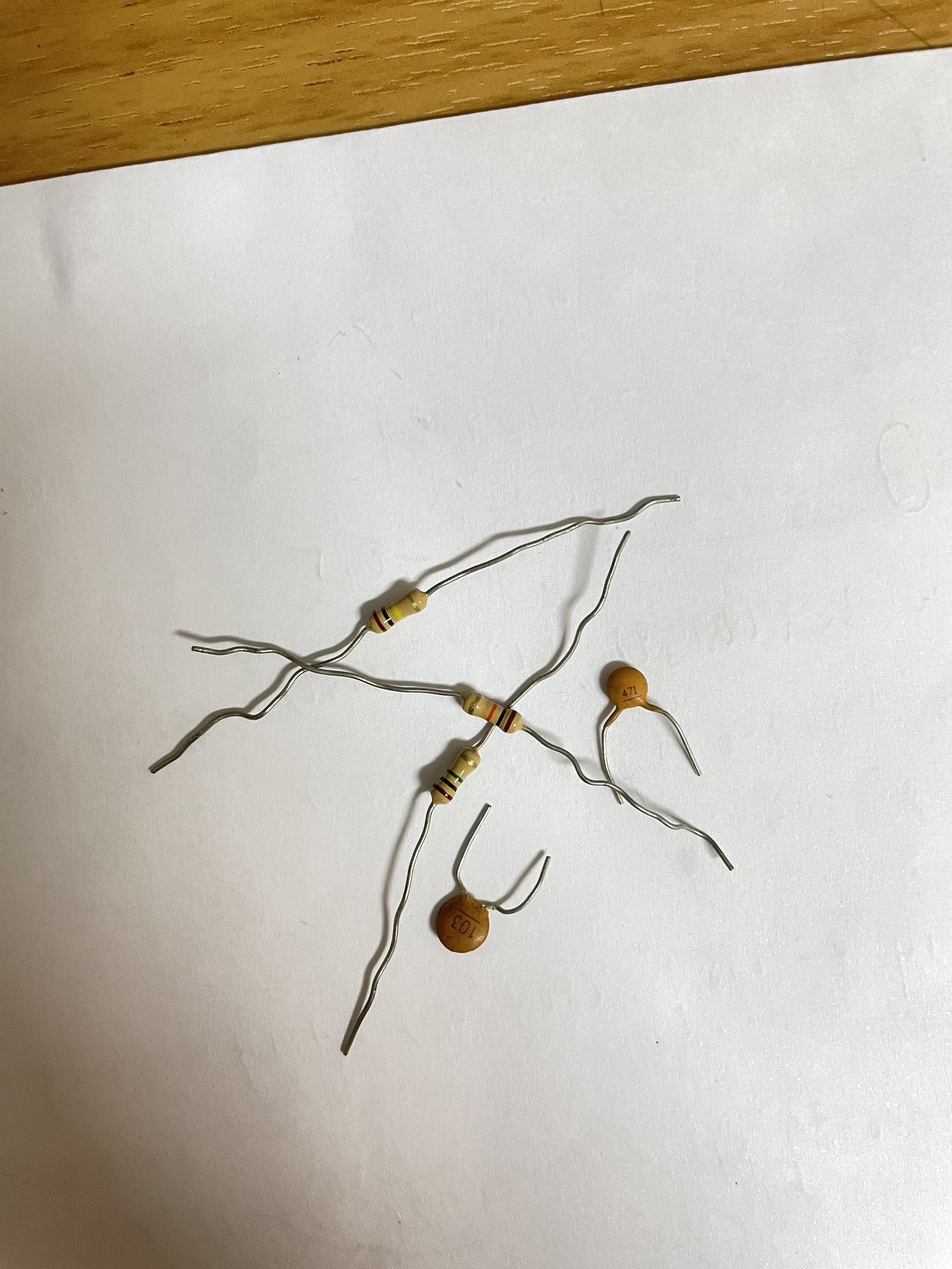resistor: (432, 746, 482, 808), (365, 589, 429, 636), (463, 689, 524, 731)
